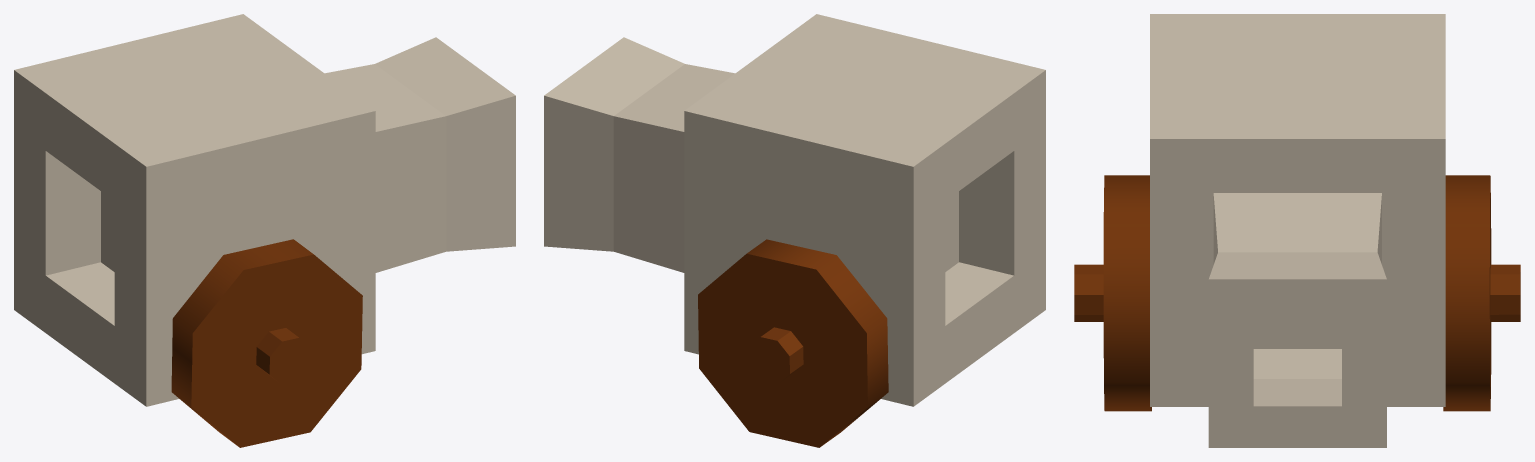
Rendered from CANNON3.FBX.
The picture shows the model from 3 angles, left to right: view 1: azimuth 30°, elevation 25°; view 2: azimuth 150°, elevation 25°; view 3: azimuth 270°, elevation 25°; orthographic projection. The views are drawn at different scales.
Visible parts, largest first — view 1: Box420, Cylinder099; view 2: Box420, Cylinder098; view 3: Box420, Cylinder098, Cylinder099.
Part boxes in pixels (x1,y1,x2,y2): Box420: [14, 14, 515, 406]; Cylinder099: [171, 239, 362, 447]; Box420: [544, 14, 1045, 406]; Cylinder098: [698, 239, 888, 447]; Box420: [1150, 14, 1445, 447]; Cylinder098: [1443, 175, 1520, 411]; Cylinder099: [1074, 175, 1151, 411].
Bounding box in the file's own units: 170 × 117 × 149.
